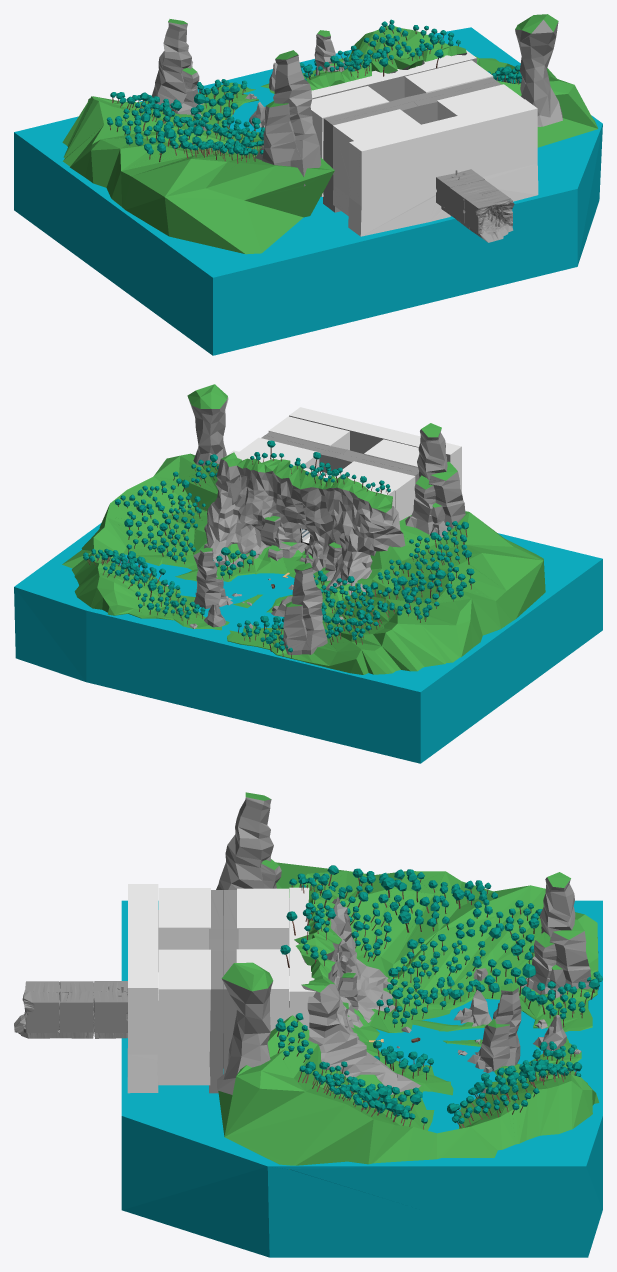
Rendered from MountainBunker.glb.
3 views of the same model, one above another, from view 1: azimuth 30°, elevation 25°; view 2: azimuth 150°, elevation 25°; view 3: azimuth 270°, elevation 25° (orthographic). The views are drawn at different scales.
Size of the model in its own units: 48.4 by 23.65 by 45.31.
